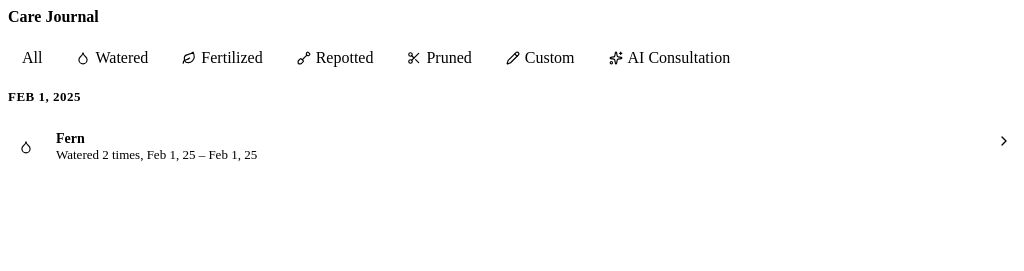
care journal event grouping › expands group on click to show individual entries
Expected: the element with class "log-group-summary" is shown, [19,129,1016,162]
Note: Click the toggle button to expand
Click the button with class "log-group-toggle" at (1004, 141), box [992,129,1016,153]
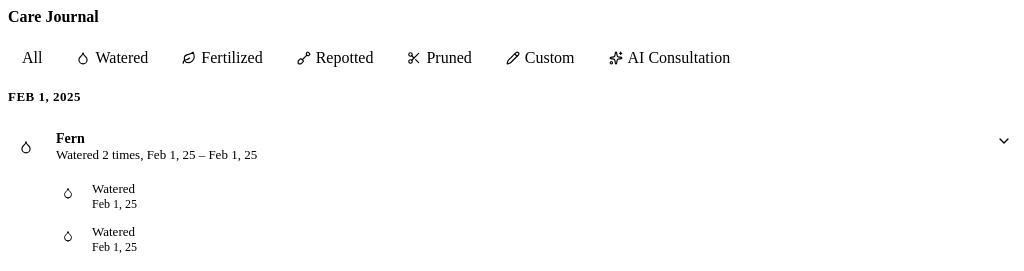
Now the element with class "log-group-expanded" is shown, box [62,181,137,254]
Now the number of elements with class "log-entry-nested" is 2, box [62,181,137,211]; [62,224,137,254]
